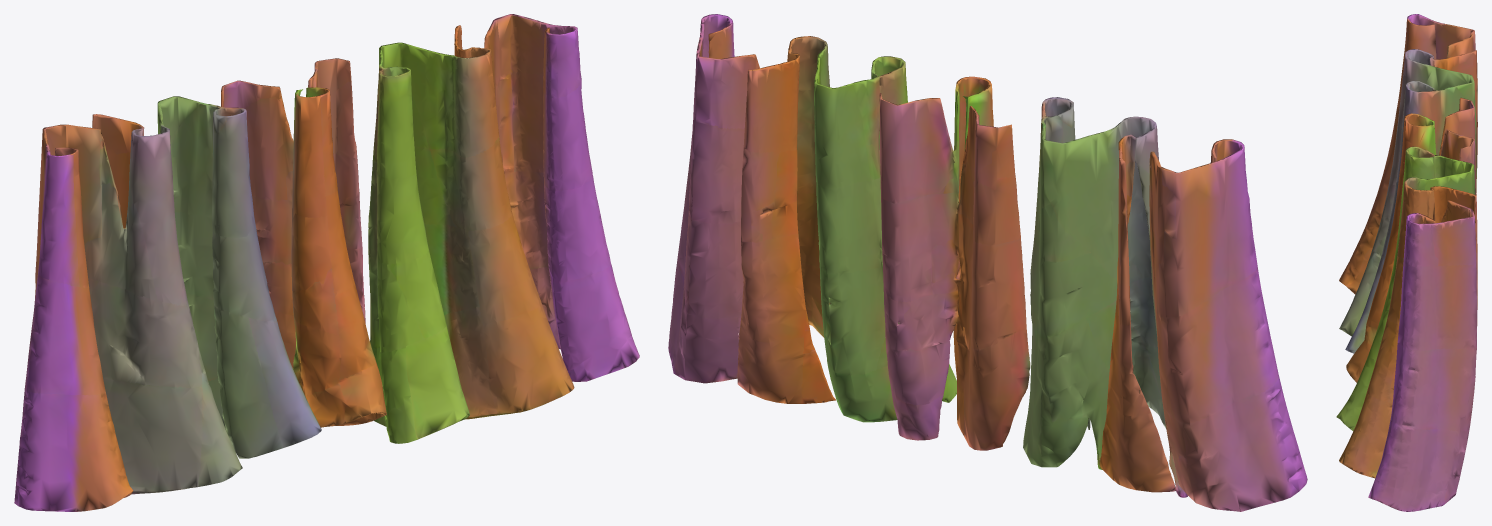
Rendered from bg_curtain.glb.
3 renders of one model, left to right at view 1: azimuth 30°, elevation 25°; view 2: azimuth 150°, elevation 25°; view 3: azimuth 270°, elevation 25°, orthographic. The views are drawn at different scales.
Visible parts, largest first — view 1: tripo_node_b5c9df2e-3133-45c3-9c98-2e1a1aa8b33d; view 2: tripo_node_b5c9df2e-3133-45c3-9c98-2e1a1aa8b33d; view 3: tripo_node_b5c9df2e-3133-45c3-9c98-2e1a1aa8b33d.
Boxes of the visible parts, x1,y1,x2,y2 form: tripo_node_b5c9df2e-3133-45c3-9c98-2e1a1aa8b33d: (14,14,639,511); tripo_node_b5c9df2e-3133-45c3-9c98-2e1a1aa8b33d: (668,14,1307,511); tripo_node_b5c9df2e-3133-45c3-9c98-2e1a1aa8b33d: (1336,14,1477,511).
Bounding box in the file's own units: 0.9998 × 0.5513 × 0.2451.
Materials: 1 (1 with a texture image).
